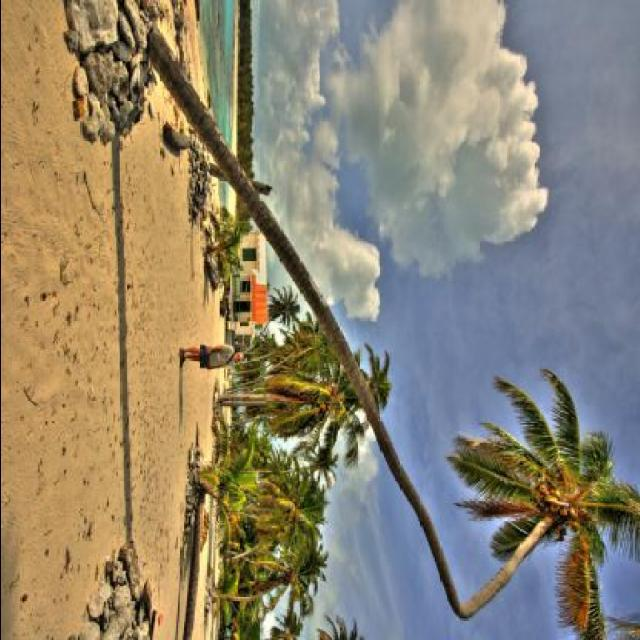Coconut: (532, 470, 576, 532), (314, 390, 336, 416)
